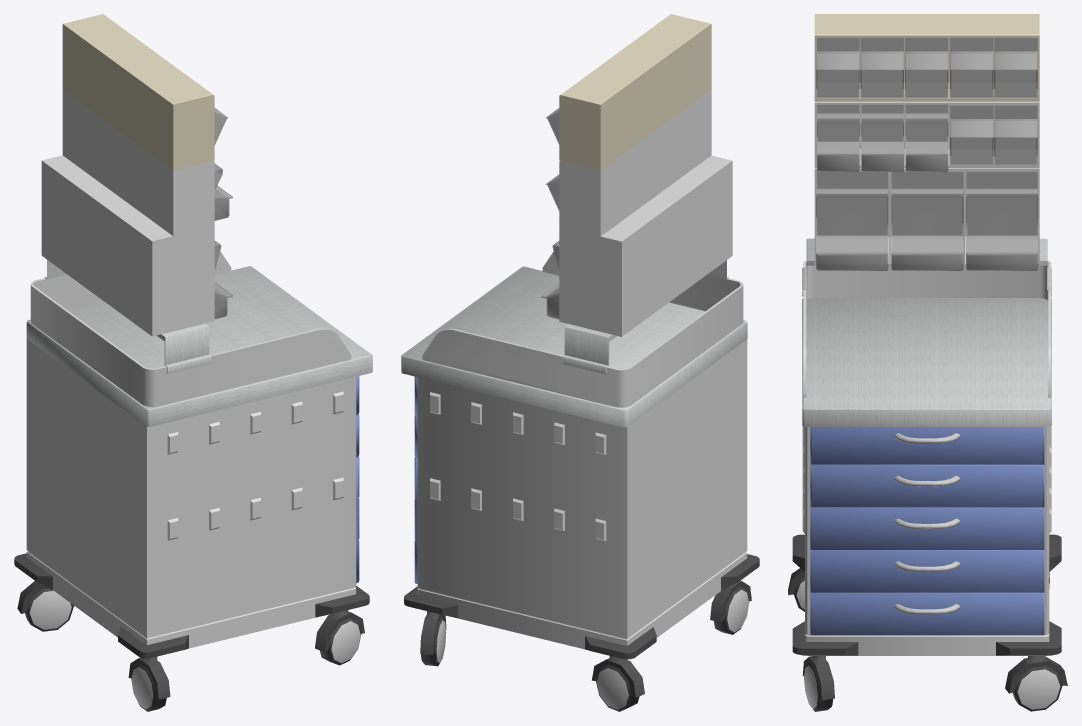
The model's file is AneStore.fbx.
The picture shows the model from 3 angles, left to right: view 1: azimuth 30°, elevation 25°; view 2: azimuth 150°, elevation 25°; view 3: azimuth 270°, elevation 25°; orthographic projection.
Visible parts, largest first — view 1: AneStore, AneStore_Part, AneStore_Tray2, AneStore_Tray; view 2: AneStore, AneStore_Part, AneStore_Tray5; view 3: AneStore, AneStore_Part, AneStore_Drawer, AneStore_Drawer1, AneStore_Tray4, AneStore_Tray, AneStore_Tray5, AneStore_Tray7, AneStore_Tray2, AneStore_Tray6, AneStore_Tray3, AneStore_Tray8 (+5 smaller).
Boxes of the visible parts, bbox=[...] form: AneStore: bbox=[14, 90, 369, 711]; AneStore_Part: bbox=[26, 14, 372, 426]; AneStore_Tray2: bbox=[214, 163, 232, 220]; AneStore_Tray: bbox=[214, 240, 232, 318]; AneStore: bbox=[404, 90, 759, 711]; AneStore_Part: bbox=[401, 14, 747, 427]; AneStore_Tray5: bbox=[541, 241, 559, 319]; AneStore: bbox=[788, 101, 1067, 711]; AneStore_Part: bbox=[802, 14, 1051, 614]; AneStore_Drawer: bbox=[810, 464, 1044, 507]; AneStore_Drawer1: bbox=[810, 427, 1044, 464]; AneStore_Tray4: bbox=[891, 172, 963, 270]; AneStore_Tray: bbox=[816, 172, 888, 270]; AneStore_Tray5: bbox=[966, 172, 1038, 270]; AneStore_Tray7: bbox=[905, 104, 948, 171]; AneStore_Tray2: bbox=[817, 104, 859, 171]; AneStore_Tray6: bbox=[861, 104, 903, 171]; AneStore_Tray3: bbox=[994, 105, 1037, 165]; AneStore_Tray8: bbox=[950, 105, 993, 165].
Size of the model in its own units: 79.58 by 189 by 78.41.
